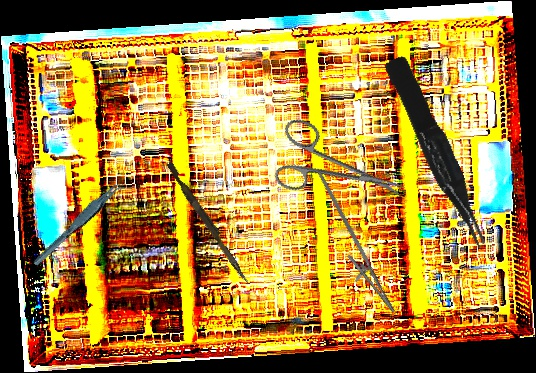Iris Scissors: (266, 115, 415, 227)
Needle Holder: (292, 171, 412, 321)
Pusher: (163, 161, 254, 285)
Tissue Forceps: (383, 51, 491, 255), (24, 178, 135, 268)
